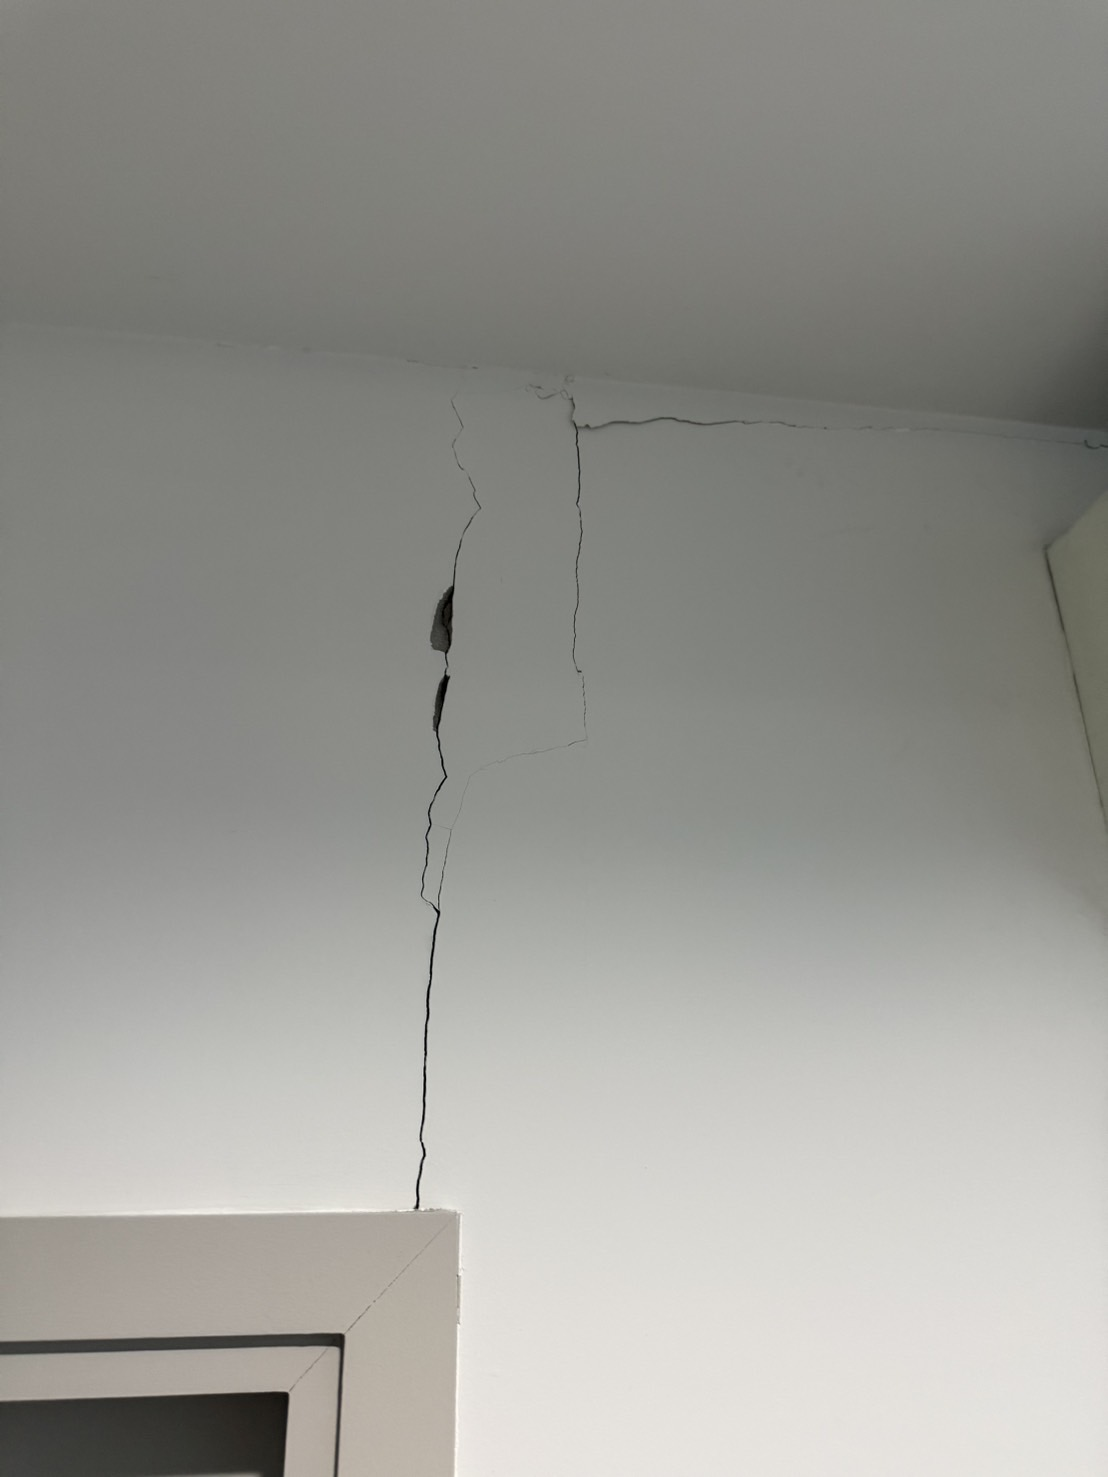Low: (325, 343, 818, 1245)
